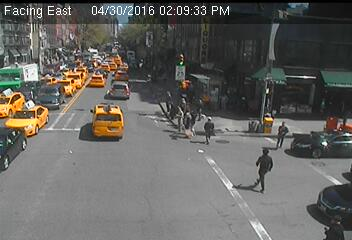neg: (96, 102, 120, 133), (313, 136, 336, 166), (150, 135, 171, 163), (58, 154, 75, 176), (277, 75, 292, 95), (233, 198, 248, 217), (152, 55, 166, 74), (96, 68, 109, 85), (75, 56, 88, 73), (41, 71, 53, 88), (185, 78, 197, 93), (325, 183, 337, 198), (304, 99, 314, 112), (133, 55, 143, 68)
pos: (247, 143, 281, 188), (321, 210, 344, 239), (271, 116, 293, 146), (176, 108, 198, 137), (200, 115, 220, 141), (161, 87, 179, 112), (194, 97, 209, 117), (218, 92, 233, 112)
